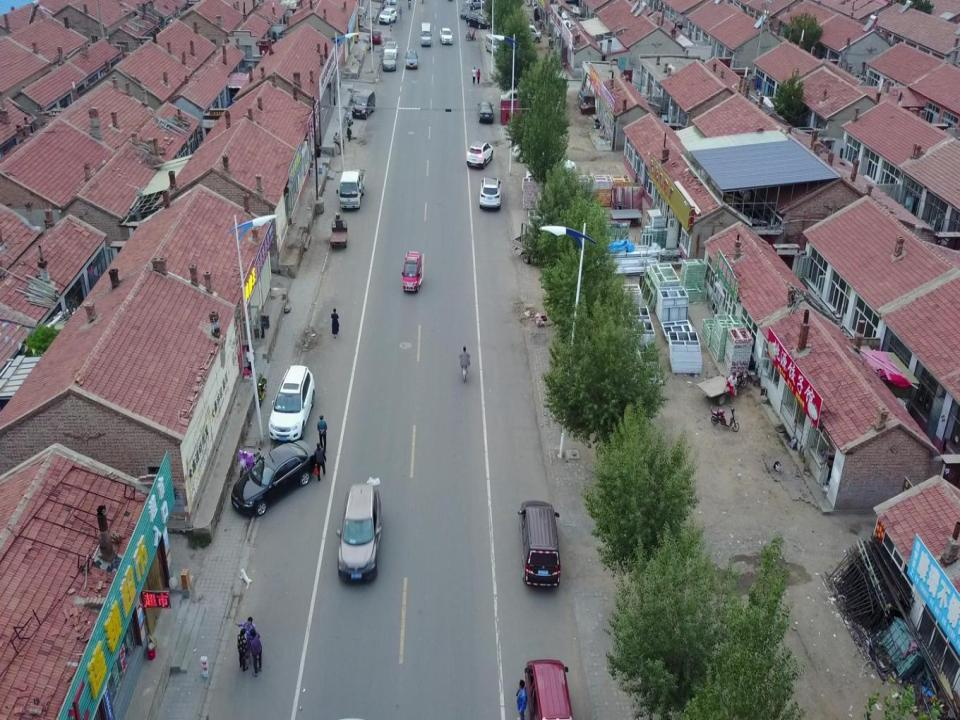car: (233, 439, 315, 518), (336, 484, 380, 582), (268, 366, 313, 442), (479, 177, 502, 210), (467, 140, 494, 168), (537, 155, 576, 173), (512, 141, 541, 162), (499, 88, 528, 106), (478, 100, 493, 121), (379, 8, 397, 24), (383, 50, 396, 71), (405, 49, 418, 69), (440, 28, 453, 44), (385, 42, 398, 58), (370, 29, 382, 45), (467, 0, 484, 11)
truck: (512, 225, 565, 266), (336, 167, 366, 209), (421, 23, 431, 46), (460, 2, 470, 19)
van: (518, 500, 561, 587), (524, 659, 573, 720), (351, 88, 375, 118), (518, 25, 542, 44), (466, 10, 488, 28), (485, 34, 500, 54)
